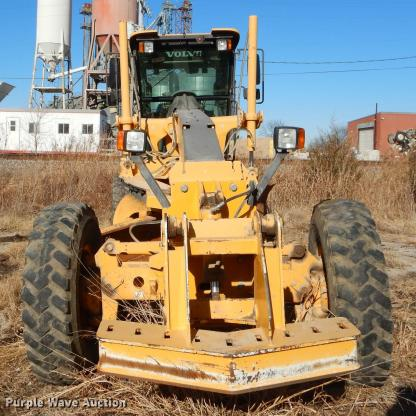bull_dozer/loader/grader: (16, 24, 416, 403)
